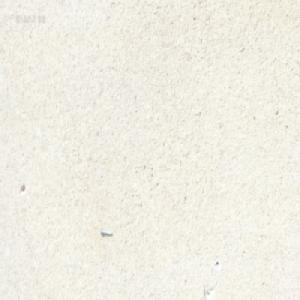Nail: (98, 226, 113, 236)
